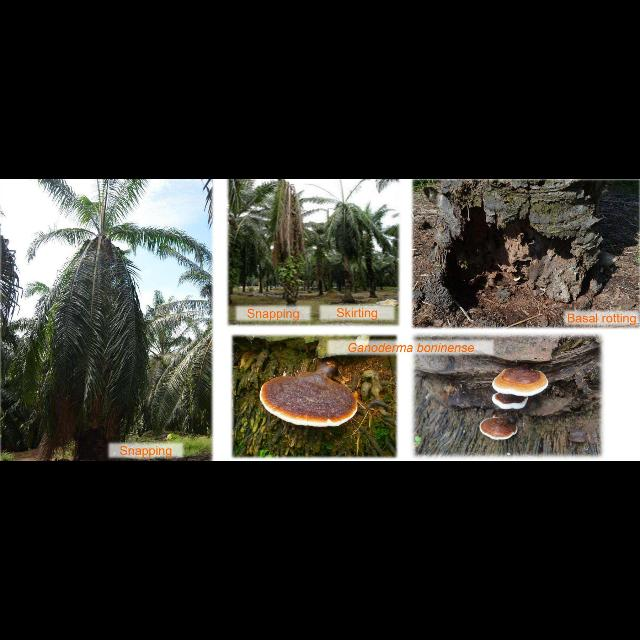ganoderma: (260, 365, 360, 428), (493, 367, 549, 399), (480, 416, 518, 441), (513, 276, 521, 283)
